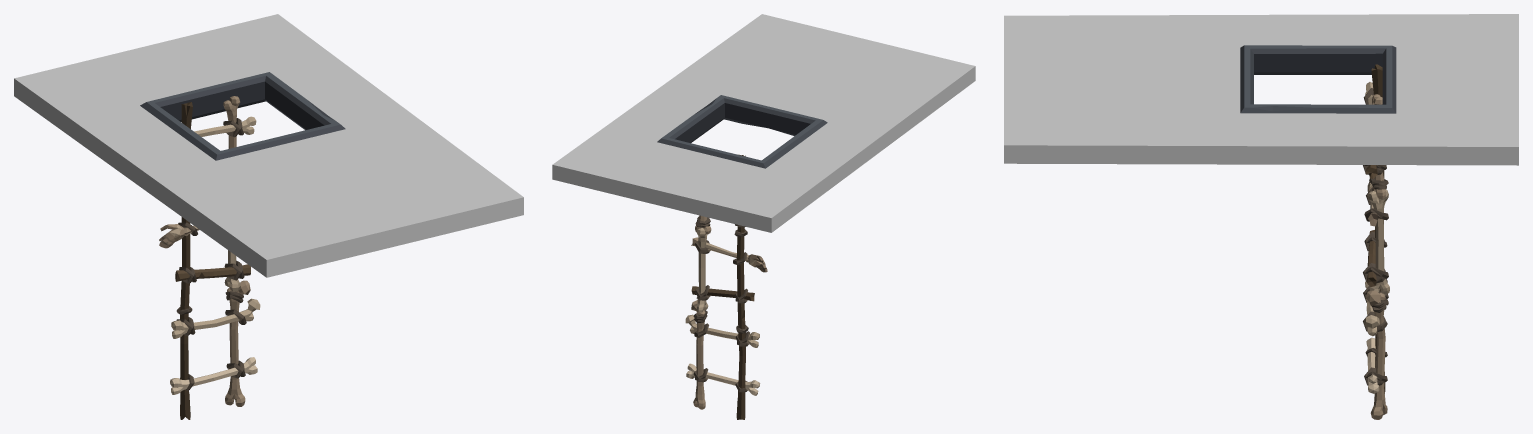
Rendered from SM_Veh_Ship_Ladder_02.fbx.
3 renders of one model, left to right at view 1: azimuth 30°, elevation 25°; view 2: azimuth 150°, elevation 25°; view 3: azimuth 270°, elevation 25°, orthographic. The views are drawn at different scales.
Visible parts, largest first — view 1: SM_Veh_Ship_Ladder_02; view 2: SM_Veh_Ship_Ladder_02; view 3: SM_Veh_Ship_Ladder_02.
Boxes of the visible parts, box(x1,y1,x2,y2) form: SM_Veh_Ship_Ladder_02: box(14, 14, 523, 419); SM_Veh_Ship_Ladder_02: box(552, 14, 975, 419); SM_Veh_Ship_Ladder_02: box(1004, 14, 1518, 419).
Bounding box in the file's own units: 258 × 299 × 422.
